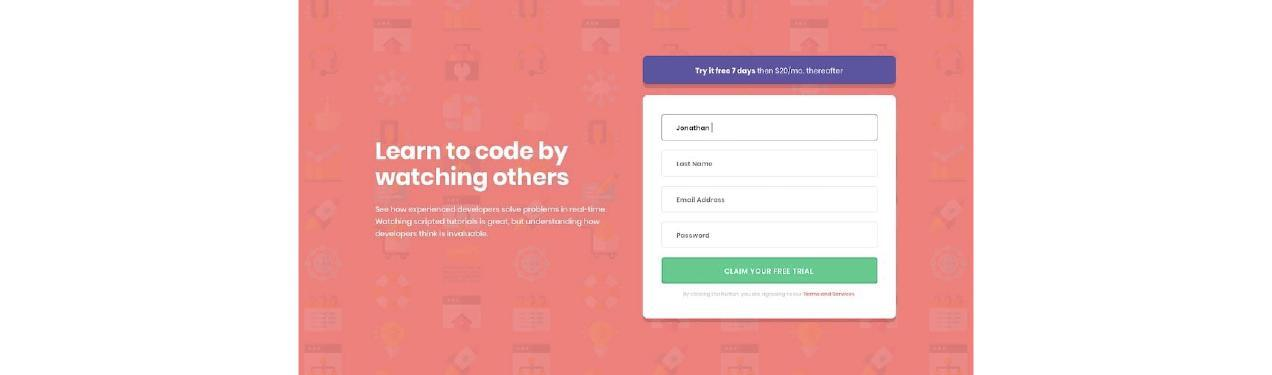button: (644, 56, 897, 86), (663, 258, 878, 285)
input: (662, 114, 880, 143), (662, 221, 883, 249), (661, 186, 880, 214), (662, 150, 883, 177)
